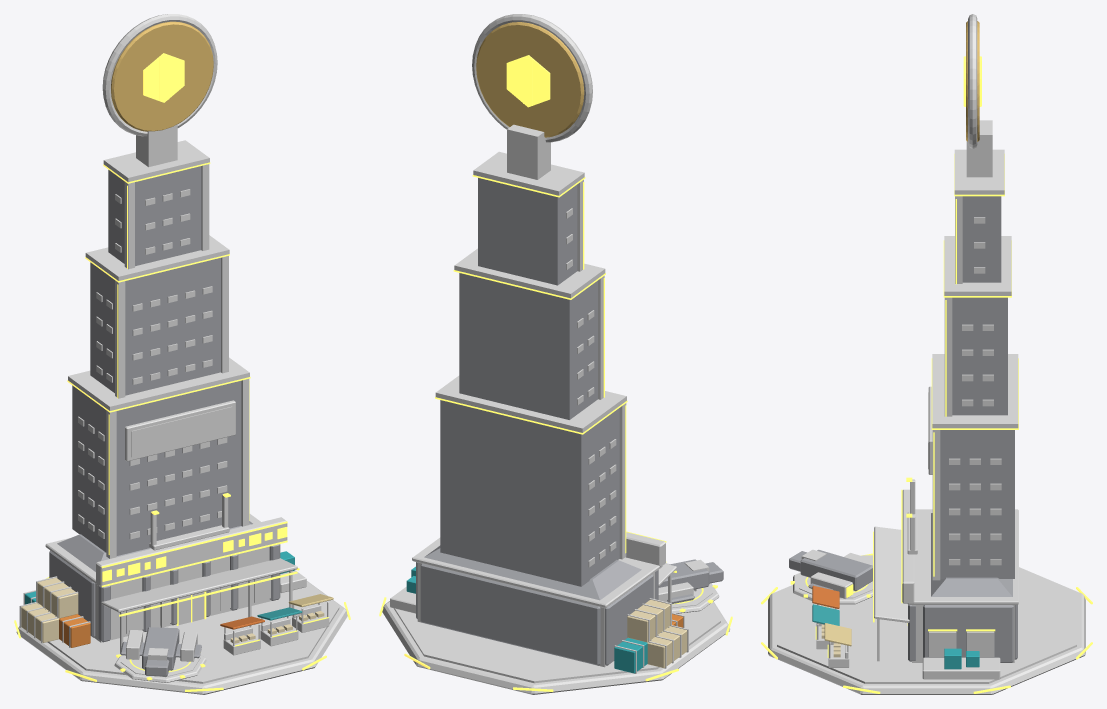
File: sb_comptoir_t3.glb
The picture shows the model from 3 angles, left to right: view 1: azimuth 30°, elevation 25°; view 2: azimuth 150°, elevation 25°; view 3: azimuth 270°, elevation 25°; orthographic projection. The views are drawn at different scales.
Visible parts, largest first — view 1: SM_CP3_TOWER, SM_CP3_TRIM, SM_CP_PLINTH_TOP, SM_CP_COIN, SM_CP3_WINDOWS, SM_CP_PLINTH, SM_CP_HALL_PLATES, SM_CP_SIGN_BAND, SM_CP_GLOW, SM_CP_AWNING, SM_CP_BILLBOARD_SCREEN, SM_CP_HALL_CORE (+18 smaller); view 2: SM_CP3_TOWER, SM_CP_HALL_PLATES, SM_CP3_TRIM, SM_CP_COIN, SM_CP_PLINTH_TOP, SM_CP_PLINTH, SM_CP_ROOF, SM_CP_CRATE_C, SM_CP_COIN_RIM, SM_CP_ROOF_EDGE, SM_CP3_GOLD, SM_CP_COIN_MARK (+7 smaller); view 3: SM_CP3_TOWER, SM_CP_PLINTH_TOP, SM_CP3_TRIM, SM_CP_PLINTH, SM_CP_HALL_PLATES, SM_CP_AWNING, SM_CP_ROOF_EDGE, SM_CP3_WINDOWS, SM_CP_SHIP, SM_CP_ROOF, SM_CP3_GOLD, SM_CP_DOCK (+11 smaller).
Part boxes in pixels (x1,y1,x2,y2): SM_CP3_TOWER: (72, 166, 241, 555); SM_CP3_TRIM: (68, 124, 249, 558); SM_CP_PLINTH_TOP: (47, 583, 339, 683); SM_CP_COIN: (111, 21, 213, 131); SM_CP3_WINDOWS: (78, 189, 227, 539); SM_CP_PLINTH: (16, 581, 347, 694); SM_CP_HALL_PLATES: (49, 544, 280, 642); SM_CP_SIGN_BAND: (96, 517, 287, 586); SM_CP_GLOW: (14, 493, 350, 691); SM_CP_AWNING: (101, 558, 297, 612); SM_CP_BILLBOARD_SCREEN: (131, 406, 232, 457); SM_CP_HALL_CORE: (94, 546, 271, 642); SM_CP3_TOWER: (440, 178, 619, 586); SM_CP_HALL_PLATES: (416, 562, 658, 665); SM_CP3_TRIM: (435, 124, 626, 559); SM_CP_COIN: (476, 22, 584, 137); SM_CP_PLINTH_TOP: (394, 564, 720, 683); SM_CP_PLINTH: (382, 563, 730, 694); SM_CP_ROOF: (424, 545, 641, 600); SM_CP_CRATE_C: (627, 599, 687, 668); SM_CP_COIN_RIM: (472, 14, 592, 142); SM_CP_ROOF_EDGE: (412, 537, 662, 608); SM_CP3_GOLD: (435, 175, 627, 553); SM_CP_COIN_MARK: (506, 55, 550, 107); SM_CP3_TOWER: (940, 196, 1014, 578); SM_CP_PLINTH_TOP: (777, 555, 1076, 683); SM_CP3_TRIM: (932, 120, 1018, 580); SM_CP_PLINTH: (768, 555, 1085, 694); SM_CP_HALL_PLATES: (908, 605, 1017, 662); SM_CP_AWNING: (874, 526, 909, 622); SM_CP_ROOF_EDGE: (908, 509, 1018, 604); SM_CP3_WINDOWS: (949, 217, 1001, 565); SM_CP_SHIP: (789, 549, 872, 591); SM_CP_ROOF: (931, 513, 1012, 596); SM_CP3_GOLD: (931, 154, 1018, 576); SM_CP_DOCK: (922, 657, 1000, 679).
Bounding box in the file's own units: 38.44 × 77.74 × 38.44.
